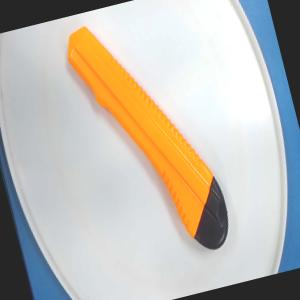estilete: (60, 3, 236, 274)
